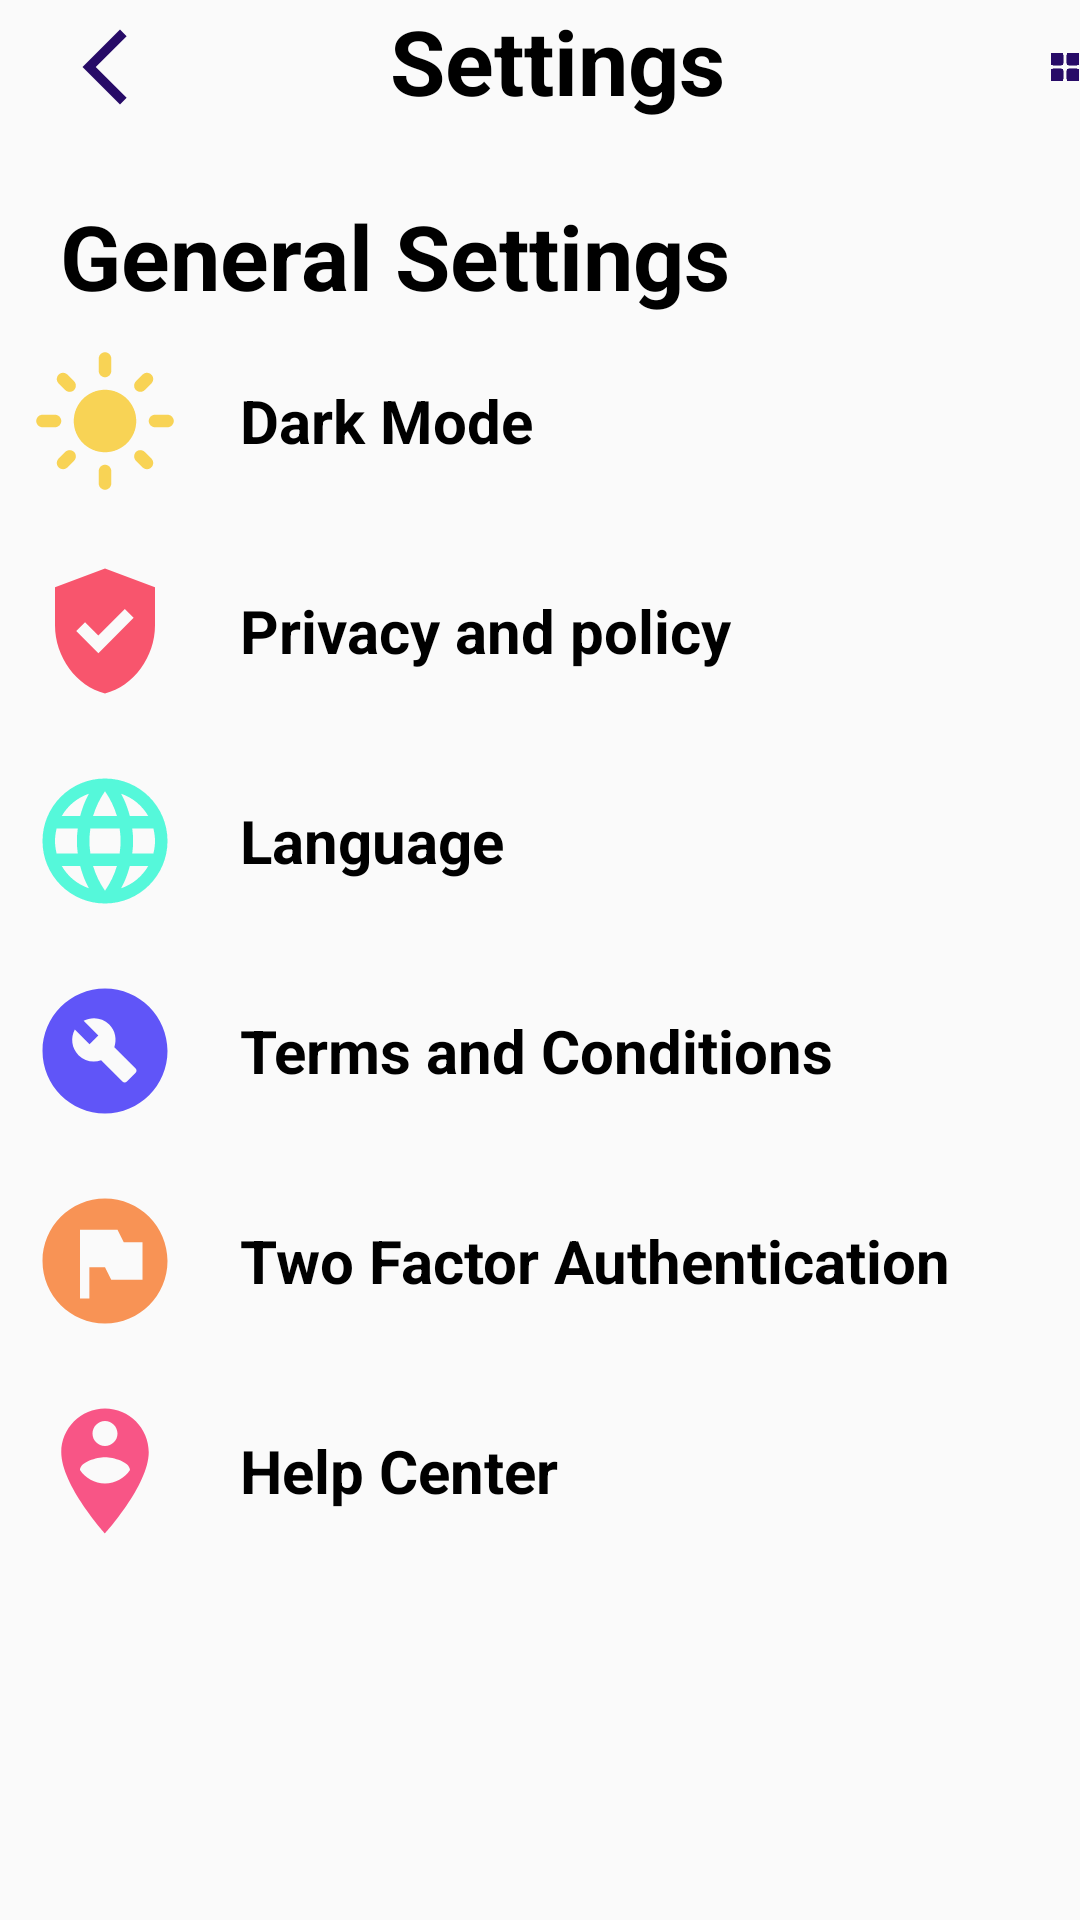

Screen size 1080×1920. Icon name, then its center in pixels as [x,y]:
arrow back: [104,67]
build circle: [105,1051]
flag circle: [105,1261]
gpp good: [105,631]
menu: [1065,67]
person pin circle: [105,1471]
